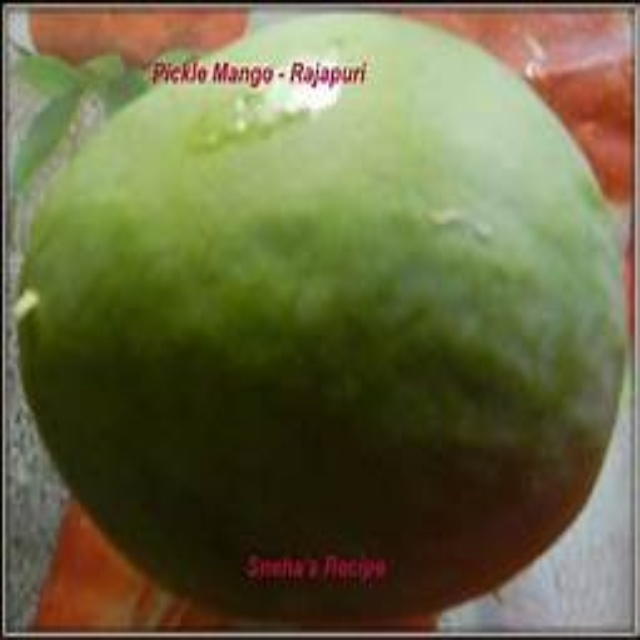mango: (26, 14, 623, 622)
